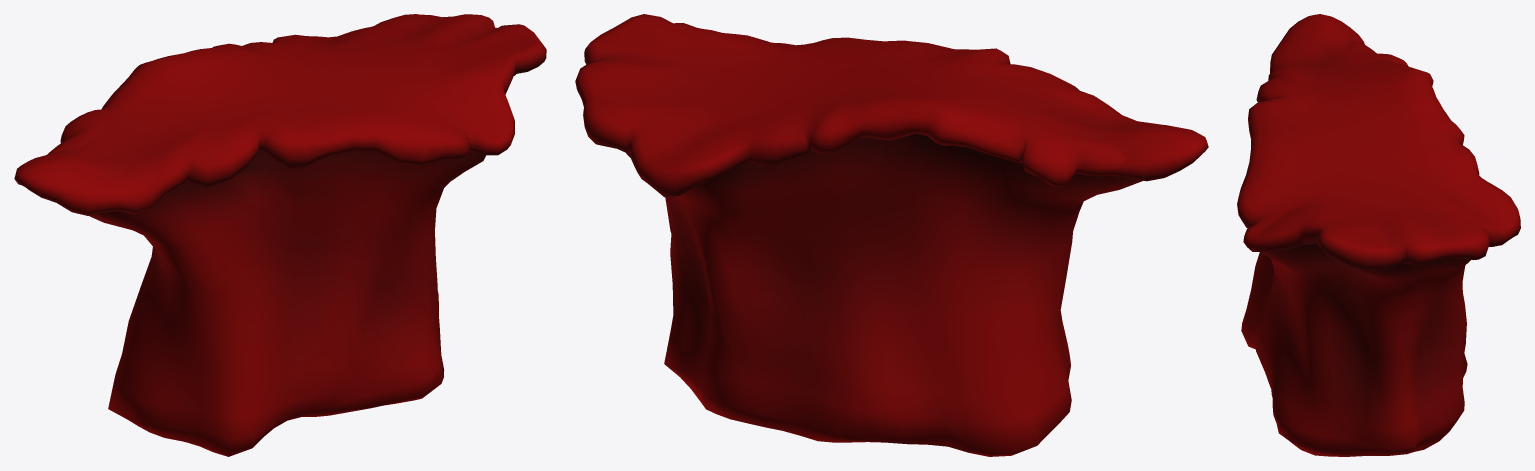
The model's file is env_dryrock_medium02.fbx.
The picture shows the model from 3 angles, left to right: view 1: azimuth 30°, elevation 25°; view 2: azimuth 150°, elevation 25°; view 3: azimuth 270°, elevation 25°; orthographic projection. The views are drawn at different scales.
Visible parts, largest first — view 1: rock02_bot; view 2: rock02_bot; view 3: rock02_bot.
Part boxes in pixels (box(x1,y1,x2,y2)): rock02_bot: box(14, 14, 546, 456); rock02_bot: box(575, 14, 1208, 456); rock02_bot: box(1237, 14, 1520, 456).
Bounding box in the file's own units: 127 × 75.88 × 65.79.
